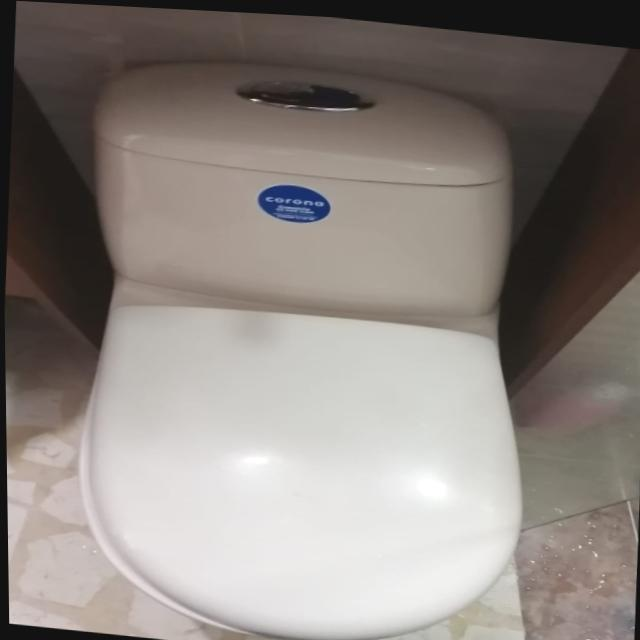toilet: (62, 43, 546, 640)
